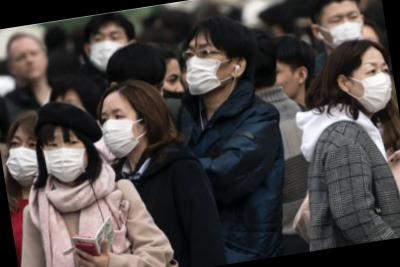with_mask: (40, 131, 94, 187), (2, 131, 48, 193), (96, 104, 146, 161), (179, 40, 226, 97), (353, 59, 398, 117), (85, 27, 133, 74), (325, 8, 367, 50)
without_mask: (9, 46, 51, 84)
